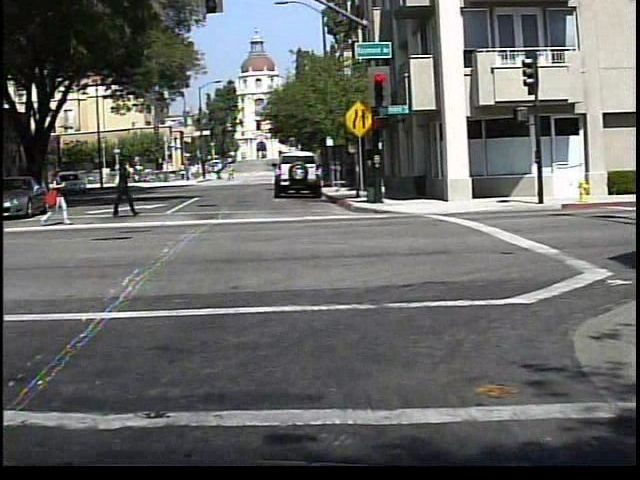person: (102, 157, 140, 222), (37, 162, 70, 229), (222, 164, 234, 185), (212, 166, 222, 185)
